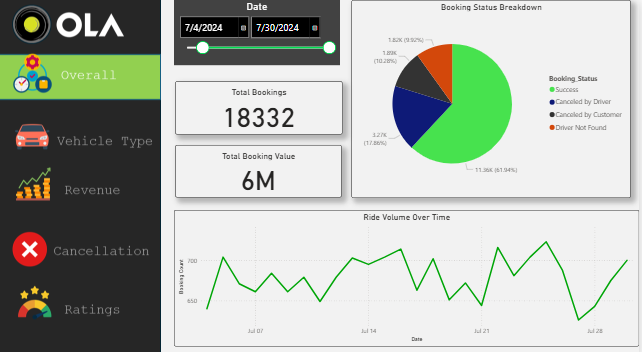

This screenshot's page, from the dashboard's own definition file:
{"tool":"powerbi","page":{"name":"overall","canvas":[1280,720],"ordinal":0},"visuals":[{"type":"actionButton","box":[0,240,313.3,90],"z":0},{"type":"actionButton","box":[0,343.3,313.3,76.7],"z":1000},{"type":"actionButton","box":[13.3,463.3,300,76.7],"z":2000},{"type":"actionButton","box":[0,576.7,313.3,76.7],"z":3000},{"type":"pieChart","title":"Booking Status Breakdown","fields":{"Category":["July.Booking_Status"],"Y":["CountNonNull(July.Booking_Status)"]},"box":[706,0,558,396],"z":4000},{"type":"lineChart","title":"Ride Volume Over Time","fields":{"Y":["CountNonNull(July.Booking_ID)"],"Category":["July.Date"]},"box":[350,420,930,272.5],"z":5000},{"type":"slicer","title":"Date","fields":{"Values":["July.Date"]},"box":[350,0,332,130],"z":6000},{"type":"card","title":"Total Bookings","fields":{"Values":["CountNonNull(July.Booking_ID)"]},"box":[352,162,334,106],"z":7000},{"type":"card","title":"Total Booking Value","fields":{"Values":["Sum(July.Booking_Value)"]},"box":[352.5,290,332.5,105],"z":8000}]}

Visuals, with their boxes in screenshot pixels (x1, y1, x2, y2), scaled from the page's 1280x720 canvas onto the 642x352 screenshot:
actionButton: {"left": 0, "top": 117, "right": 157, "bottom": 161}
actionButton: {"left": 0, "top": 168, "right": 157, "bottom": 205}
actionButton: {"left": 7, "top": 227, "right": 157, "bottom": 264}
actionButton: {"left": 0, "top": 282, "right": 157, "bottom": 319}
"Booking Status Breakdown" pieChart: {"left": 354, "top": 0, "right": 634, "bottom": 194}
"Ride Volume Over Time" lineChart: {"left": 176, "top": 205, "right": 641, "bottom": 339}
"Date" slicer: {"left": 176, "top": 0, "right": 342, "bottom": 64}
"Total Bookings" card: {"left": 177, "top": 79, "right": 344, "bottom": 131}
"Total Booking Value" card: {"left": 177, "top": 142, "right": 344, "bottom": 193}
